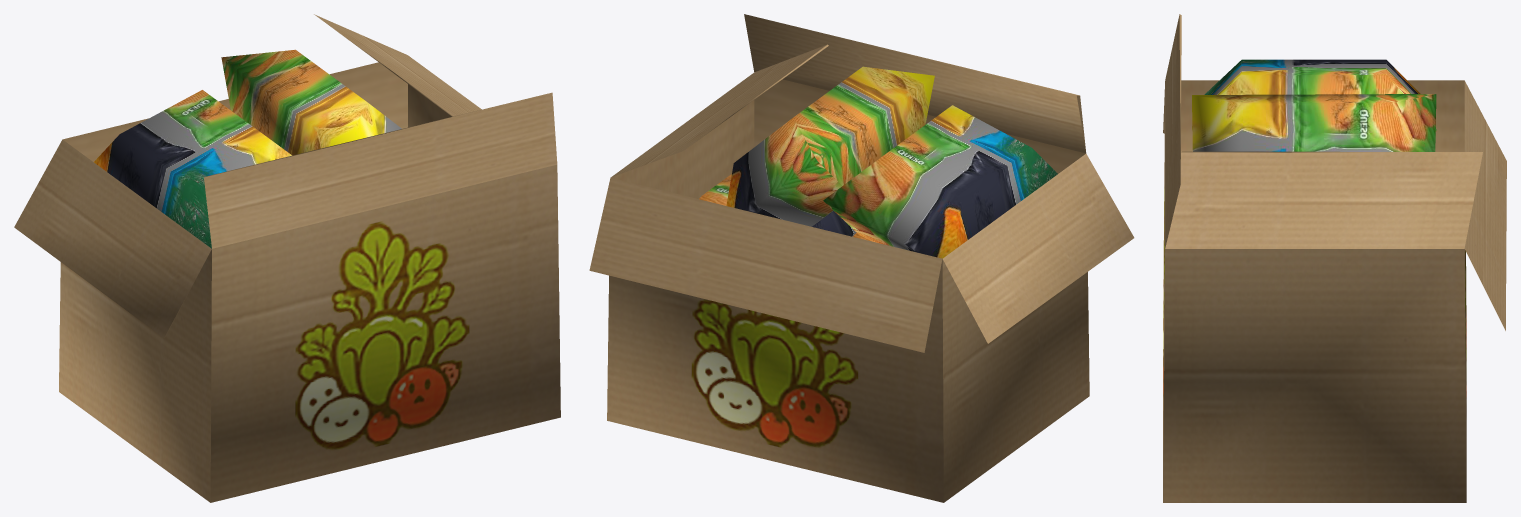
File: TomatoBox.fbx
The picture shows the model from 3 angles, left to right: view 1: azimuth 30°, elevation 25°; view 2: azimuth 150°, elevation 25°; view 3: azimuth 270°, elevation 25°; orthographic projection. The views are drawn at different scales.
Parts seen in each view (by area): view 1: Tomato_red.001; view 2: Tomato_red.001; view 3: Tomato_red.001.
Boxes of the visible parts, bbox=[...] form: Tomato_red.001: bbox=[14, 14, 560, 502]; Tomato_red.001: bbox=[589, 14, 1134, 502]; Tomato_red.001: bbox=[1163, 14, 1506, 502].
Size of the model in its own units: 87.18 by 67.83 by 65.28.
